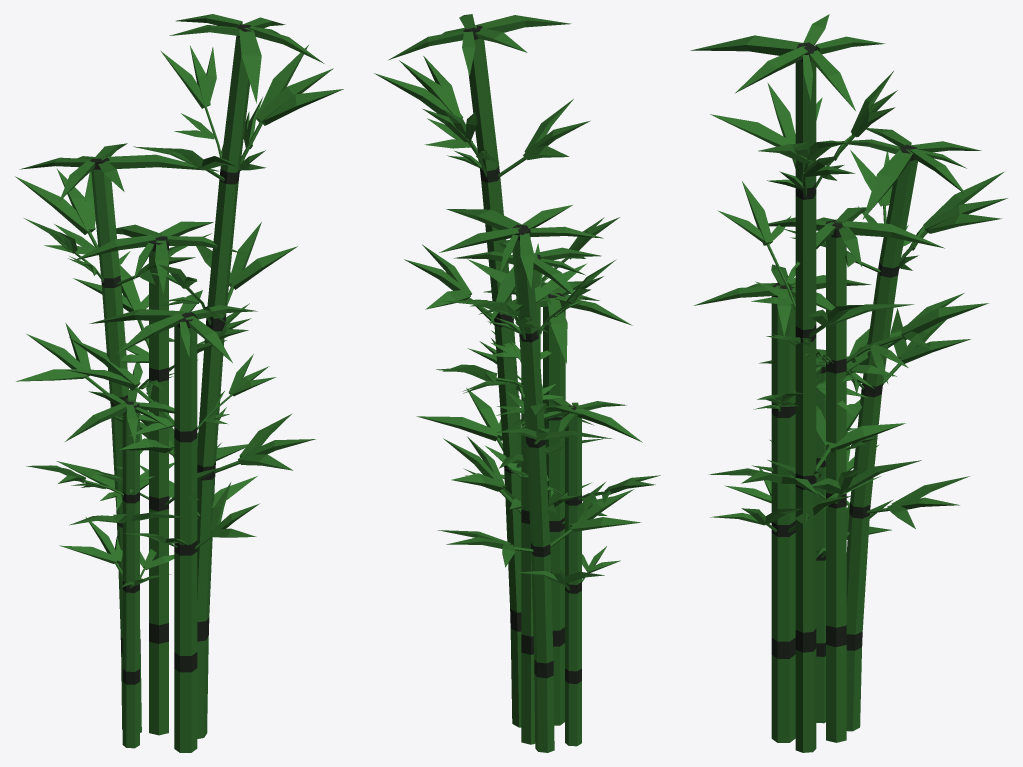
Rendered from bamboo8.FBX.
3 views of the same model, side by side, from view 1: azimuth 30°, elevation 25°; view 2: azimuth 150°, elevation 25°; view 3: azimuth 270°, elevation 25° (orthographic). The views are drawn at different scales.
Parts seen in each view (by area): view 1: bamboo8; view 2: bamboo8; view 3: bamboo8.
Part boxes in pixels (box(x1,y1,x2,y2)): bamboo8: box(15, 14, 343, 752); bamboo8: box(374, 14, 660, 752); bamboo8: box(690, 14, 1007, 752).
Size of the model in its own units: 94.15 by 86.76 by 221.
